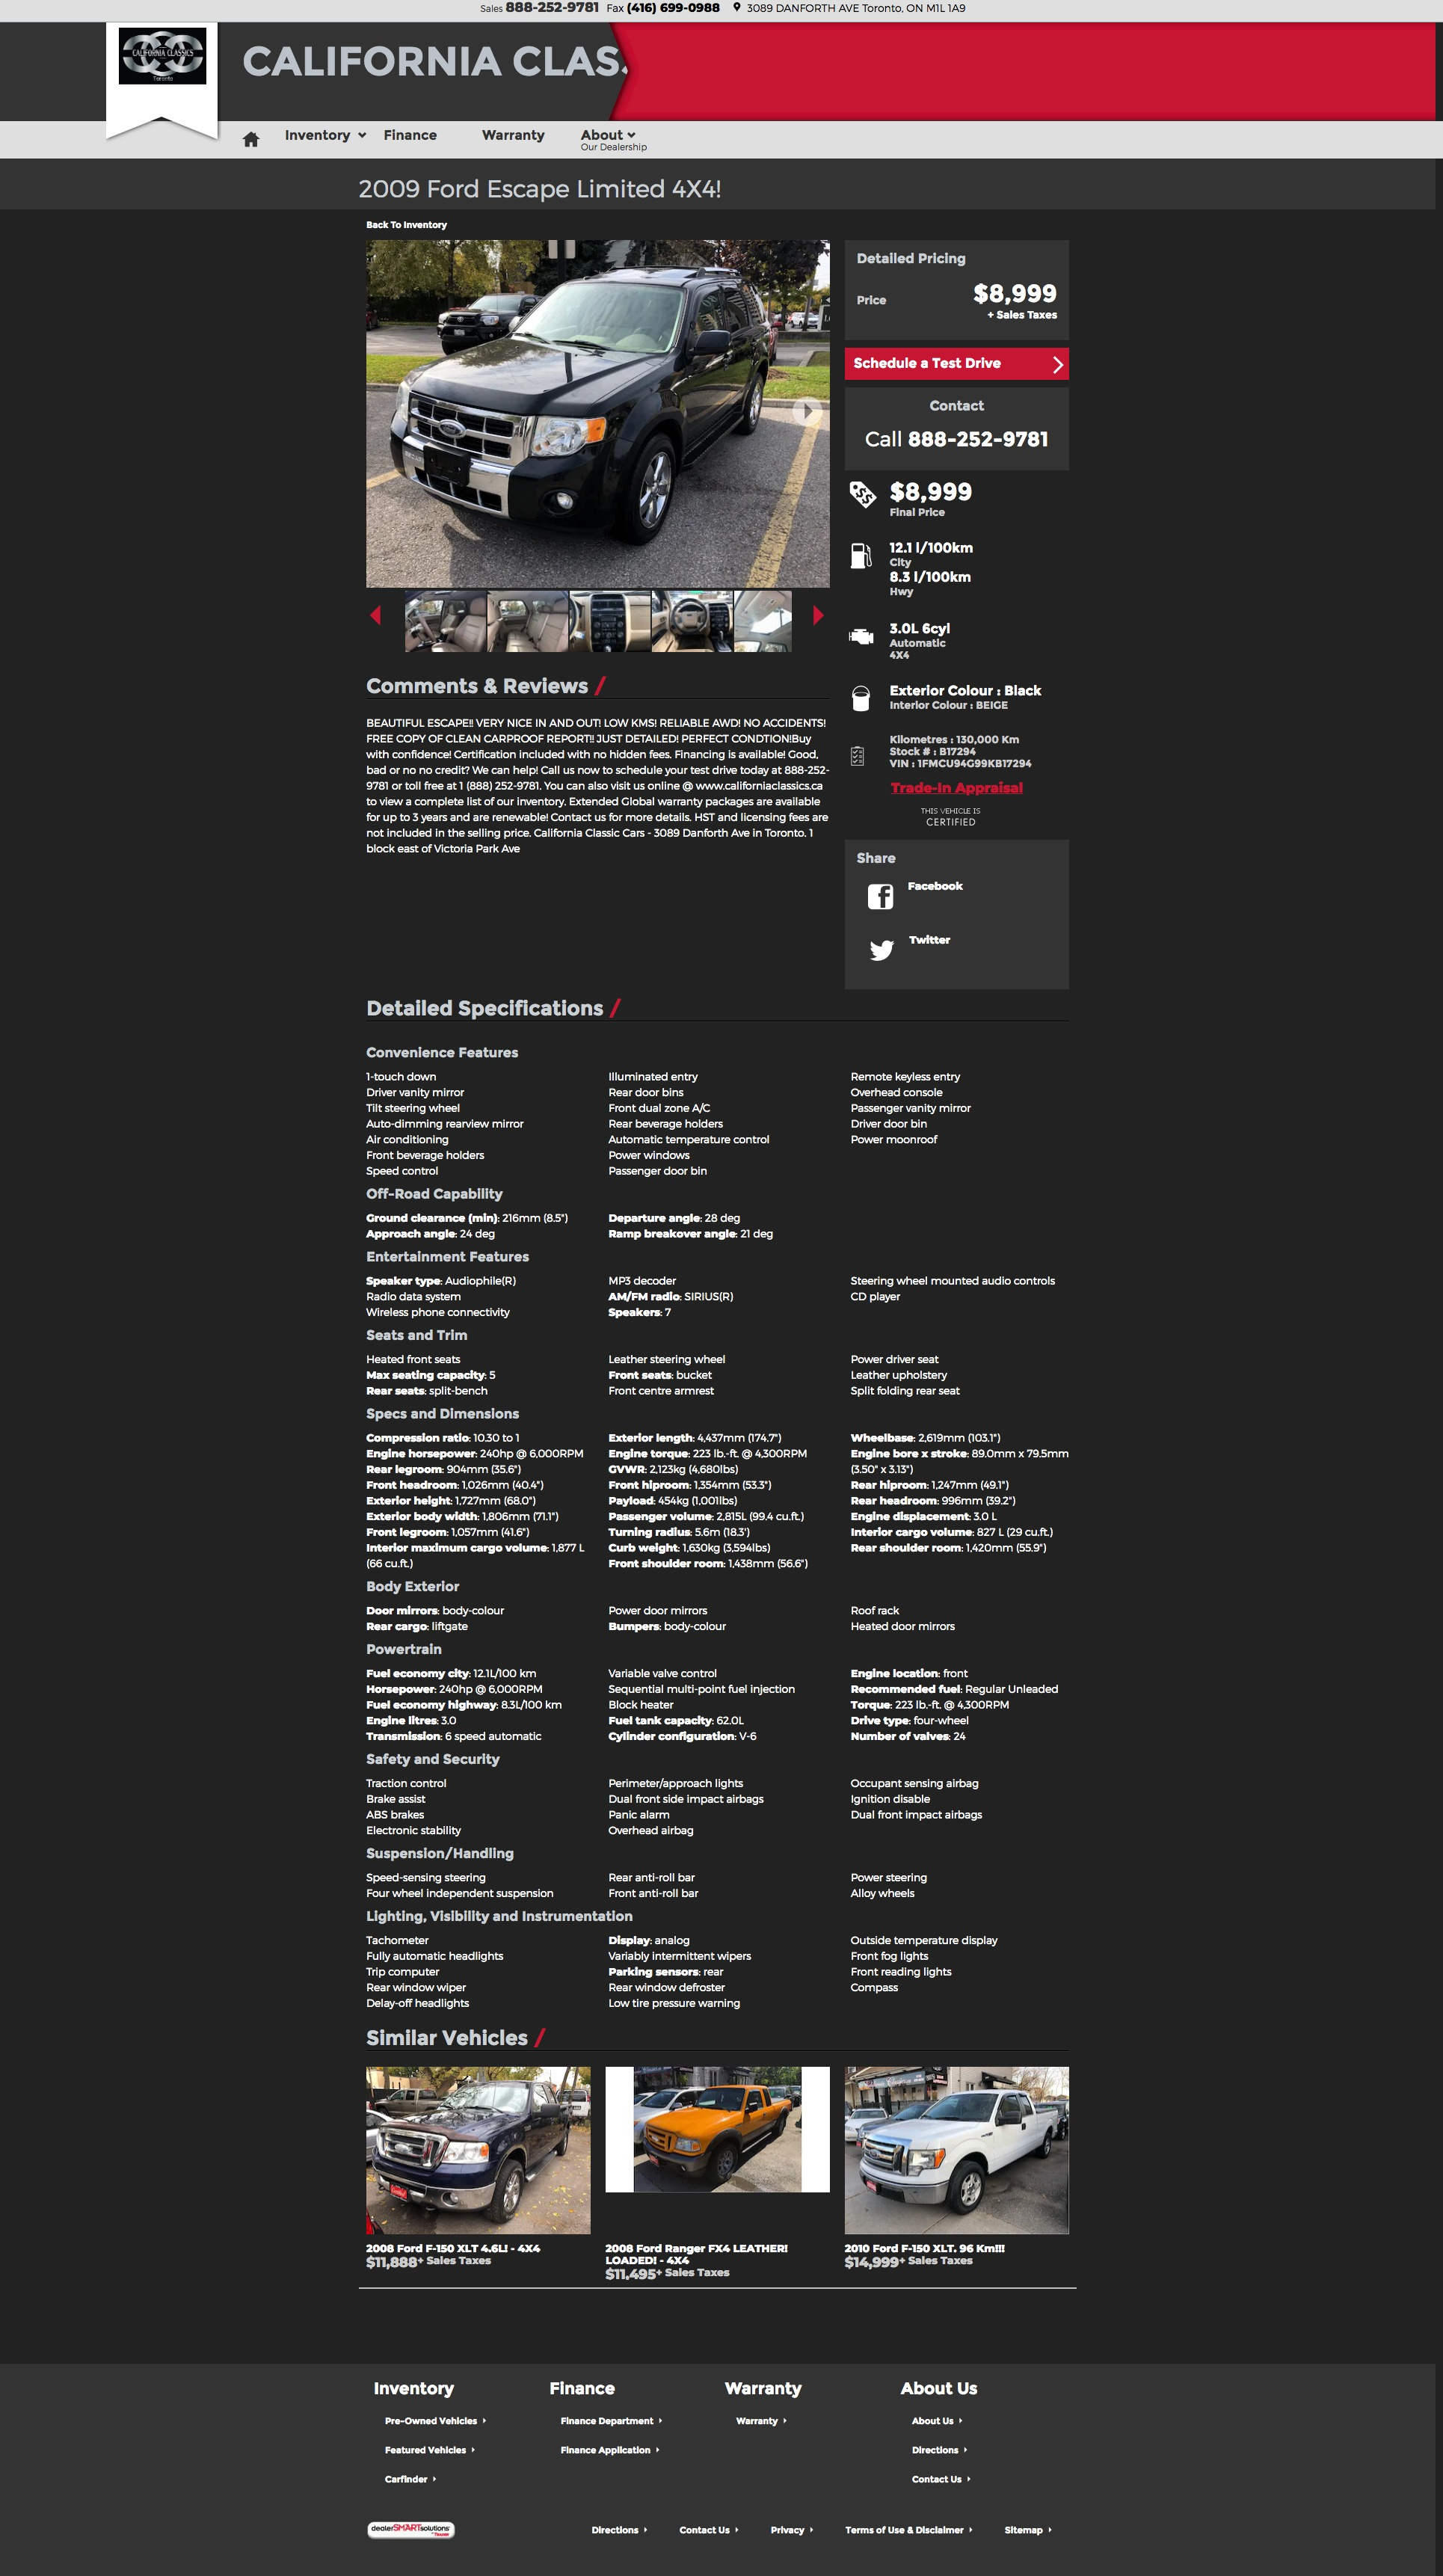car: (813, 605, 824, 626)
